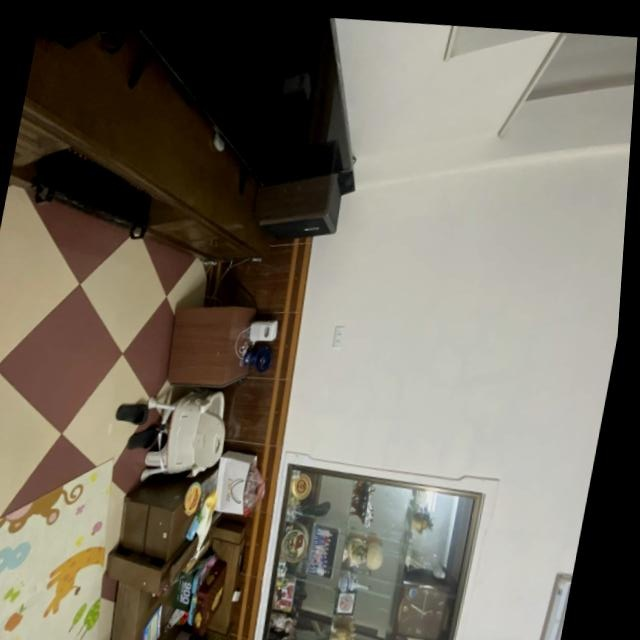outlet: (331, 325, 347, 350)
